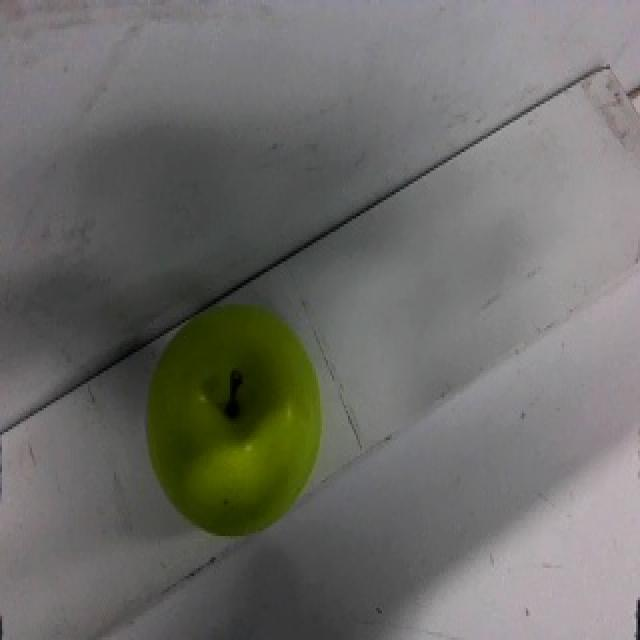apple: (142, 299, 324, 540)
